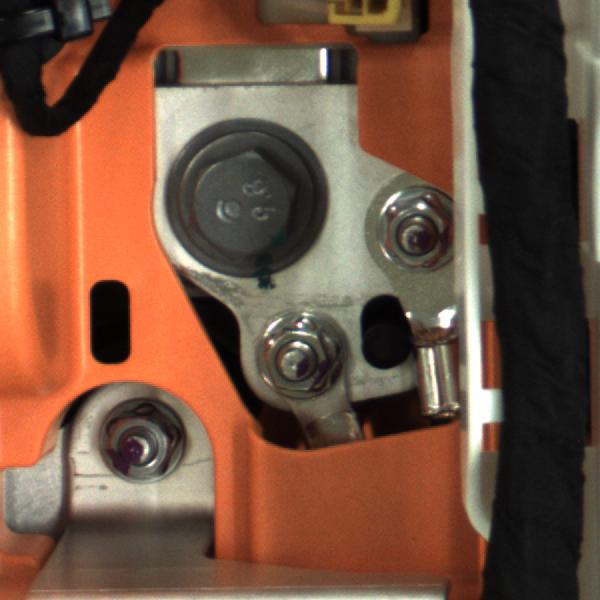nut_b: (151, 122, 333, 275)
screw_s: (93, 396, 190, 488), (380, 196, 471, 281), (252, 314, 332, 401)
